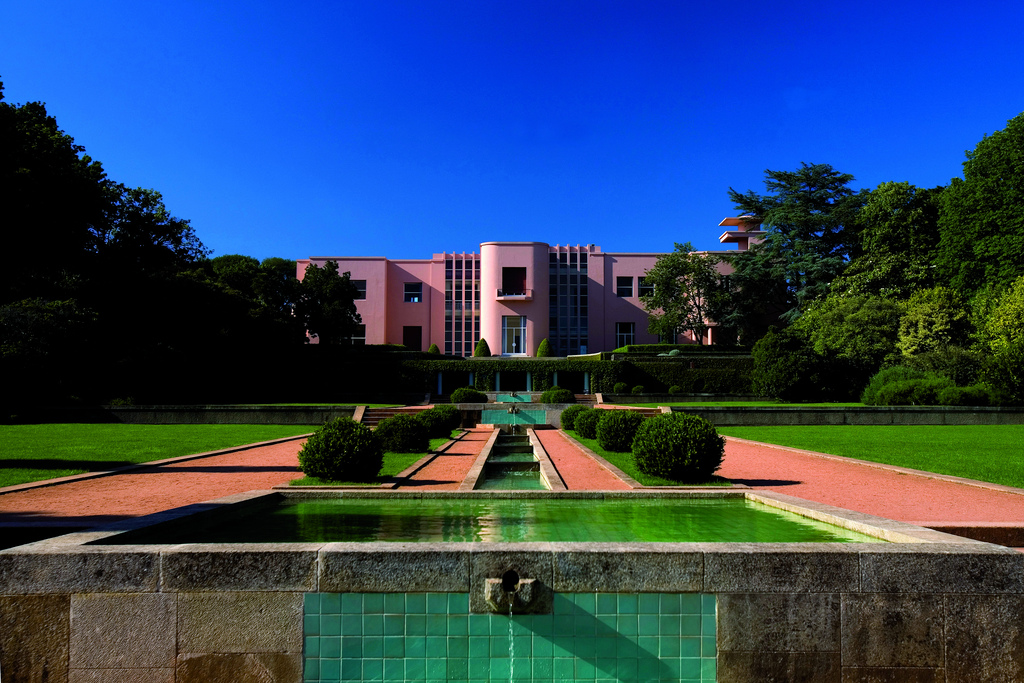serralves: (297, 210, 793, 357)
